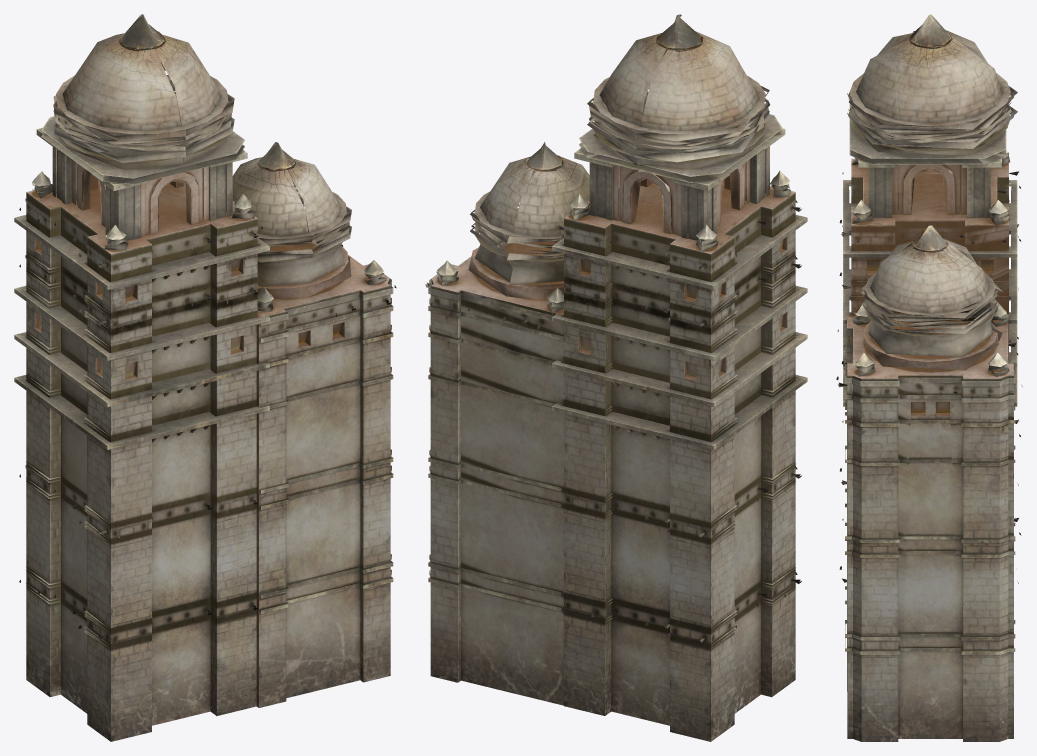
File: xi_dep_tower_low.gltf
3 views of the same model, side by side, from view 1: azimuth 30°, elevation 25°; view 2: azimuth 150°, elevation 25°; view 3: azimuth 270°, elevation 25° (orthographic). The views are drawn at different scales.
Parts seen in each view (by area): view 1: xi_dep_tower; view 2: xi_dep_tower; view 3: xi_dep_tower.
Boxes of the visible parts, left/top/right/bottom form: xi_dep_tower: left=14, top=14, right=396, bottom=741; xi_dep_tower: left=425, top=14, right=807, bottom=741; xi_dep_tower: left=836, top=14, right=1022, bottom=741.
Bounding box in the file's own units: 9.8 × 20.62 × 5.52.
Materials: 1 (1 with a texture image).
